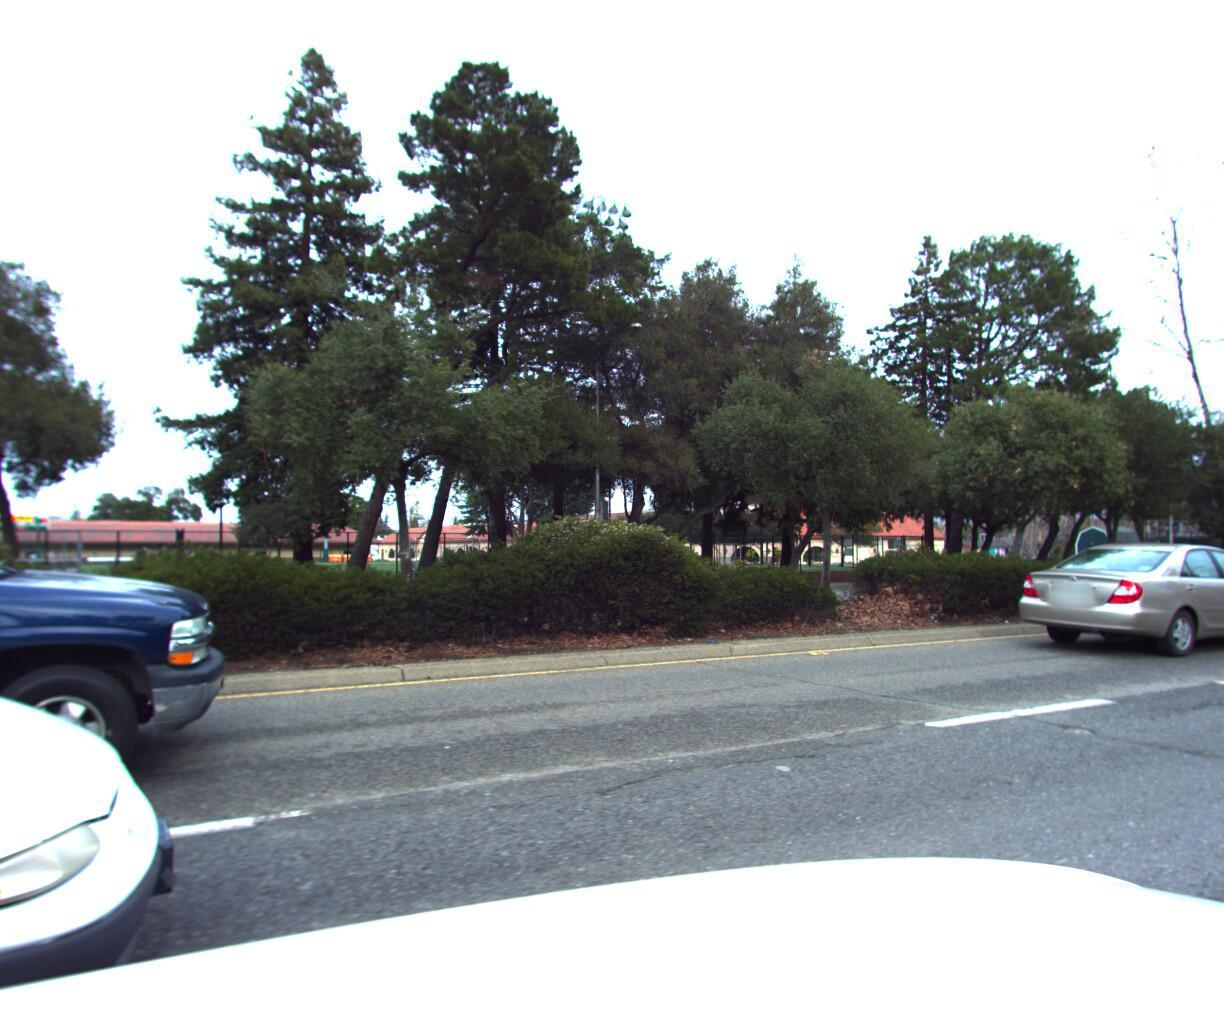car: (0, 375, 260, 972), (993, 531, 1224, 665)
